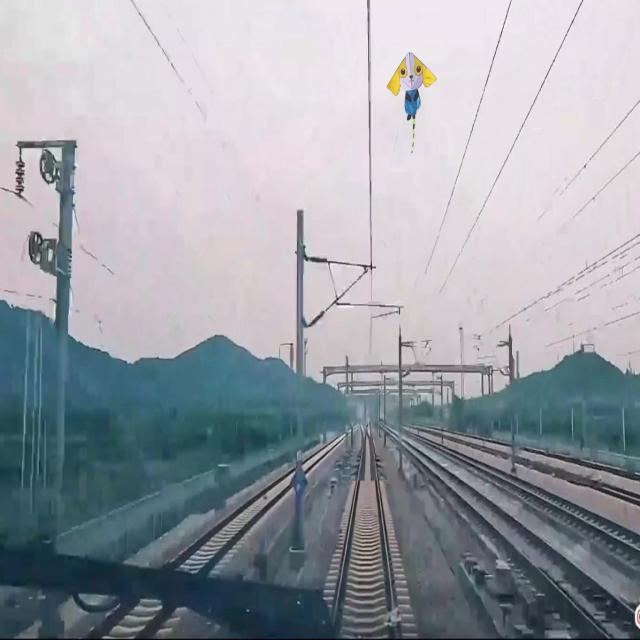floating object: (389, 48, 438, 152)
